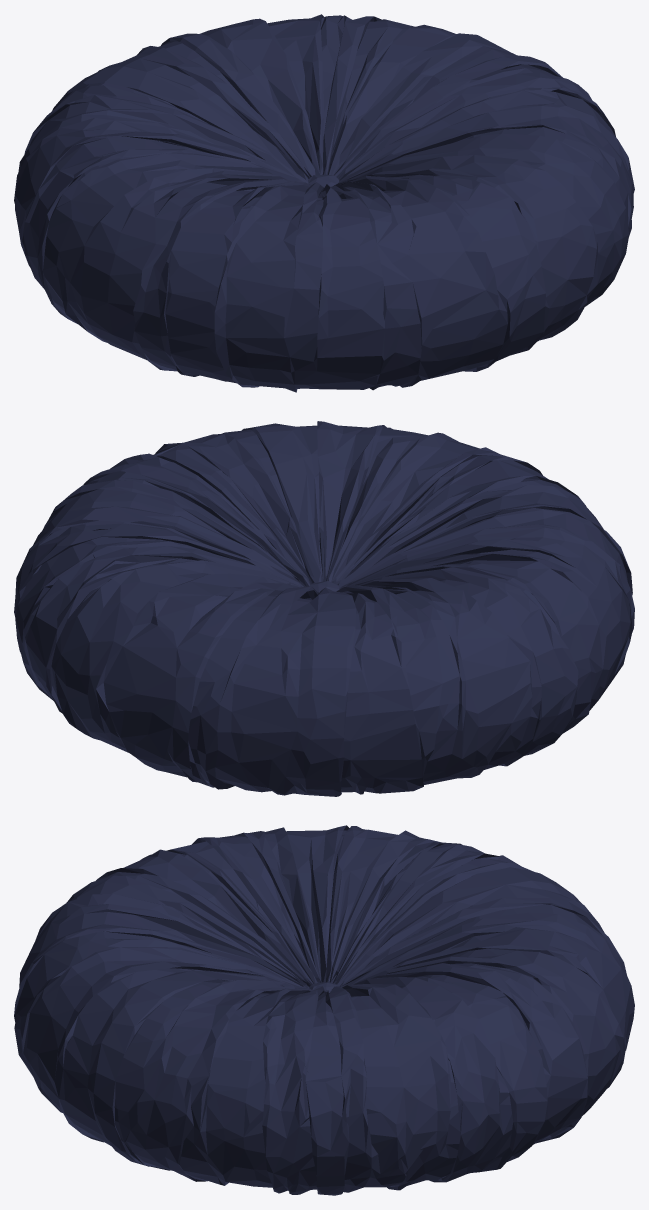
The model's file is SpecularSilkPouf.glb.
The picture shows the model from 3 angles, top to bottom: view 1: azimuth 30°, elevation 25°; view 2: azimuth 150°, elevation 25°; view 3: azimuth 270°, elevation 25°; orthographic projection.
Parts seen in each view (by area): view 1: SpecularSilkPouf; view 2: SpecularSilkPouf; view 3: SpecularSilkPouf.
Part boxes in pixels (x1,y1,x2,y2): SpecularSilkPouf: [14, 14, 634, 392]; SpecularSilkPouf: [14, 421, 634, 796]; SpecularSilkPouf: [14, 825, 634, 1195].
Size of the model in its own units: 0.6099 by 0.1968 by 0.6098.
